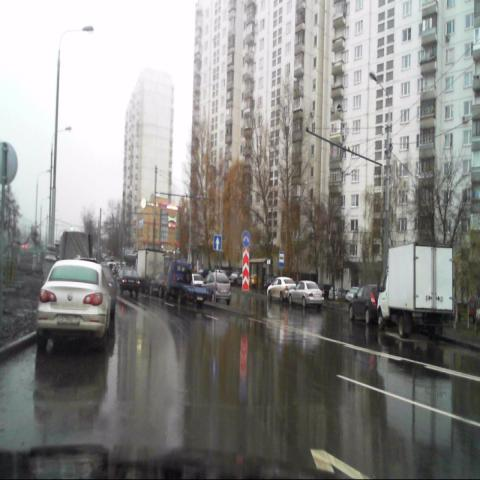4_2_3: (241, 231, 250, 247)
5_16: (278, 251, 285, 266)
5_5: (214, 235, 222, 250)
